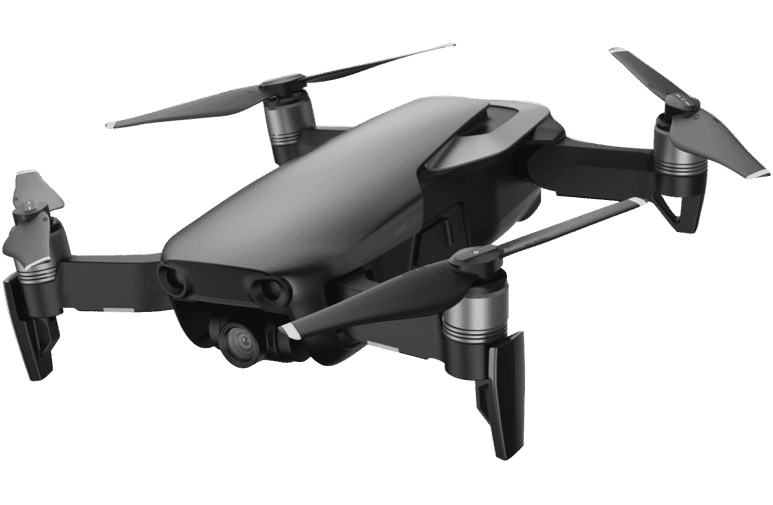drone: (1, 43, 773, 458)
